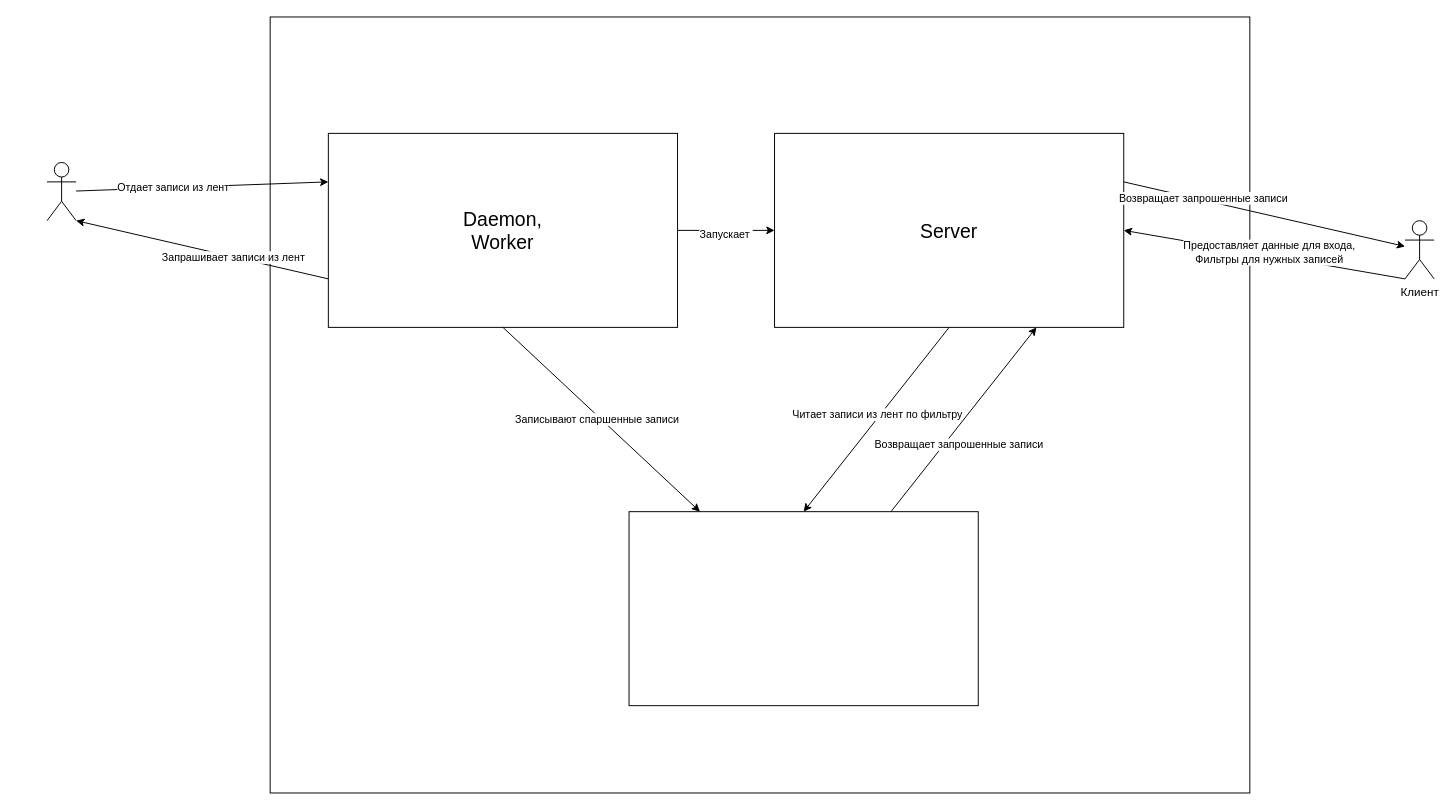
Image size: 1456x810. Some labels were removed from this diagram. The shapes that lost their labels are listed below. From the top down, each one's centre as x and y in pixels, then its label:
the point at 61,191: Владельцы лент
the point at 803,608: База данных PostgreSQL
